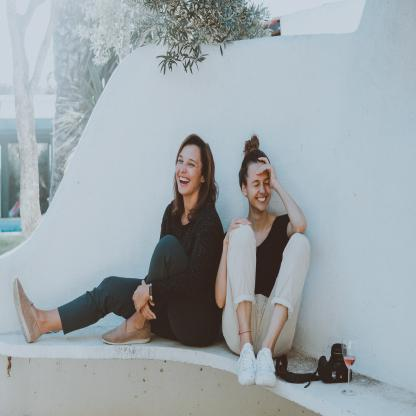Eye: (188, 162, 195, 167), (252, 183, 260, 187), (178, 159, 184, 163), (264, 181, 270, 185)
Mouth: (178, 175, 190, 186), (256, 196, 268, 204)
Nose: (180, 162, 187, 174), (259, 183, 265, 194)
